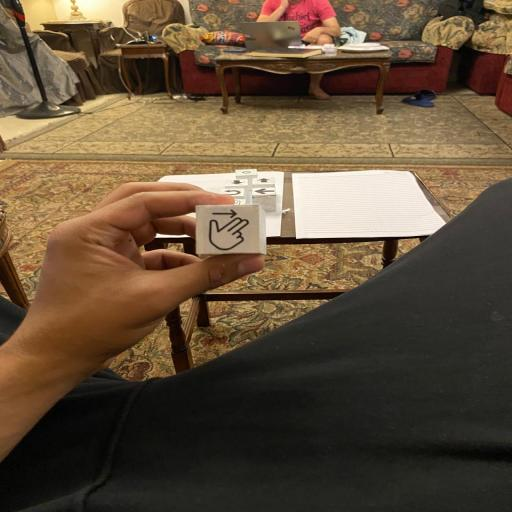RightSwipe: (192, 203, 268, 257)
